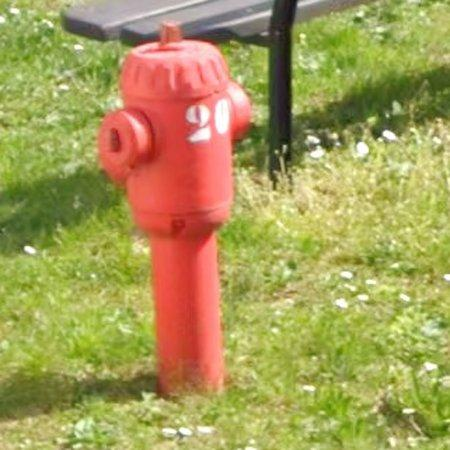a fire hydrant: (98, 25, 252, 396)
